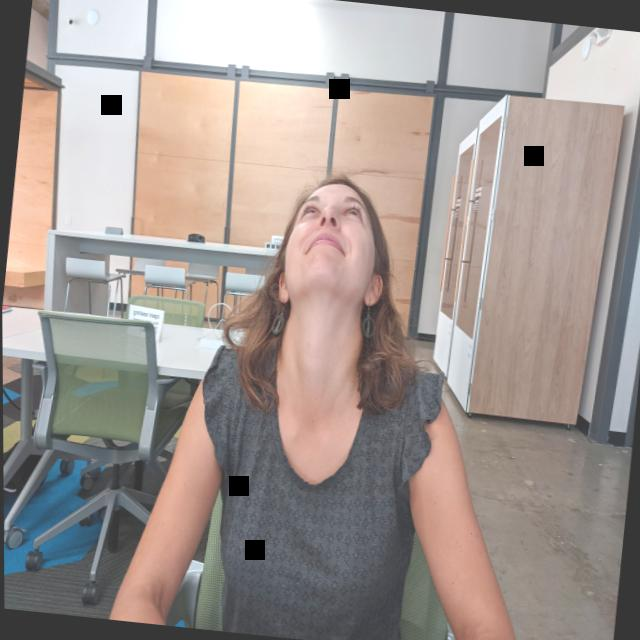NO-Mask: (268, 170, 395, 315)
